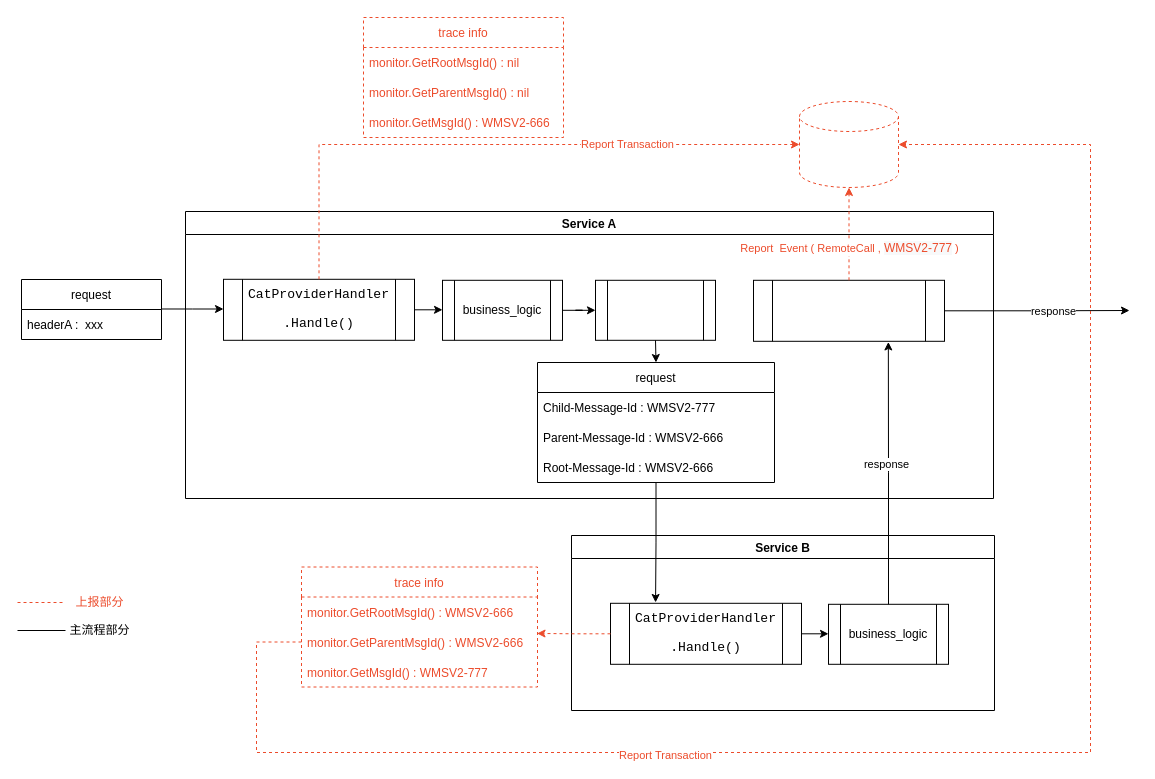
This 1155x779 diagram has some shape labels left out. Each missing label, with the centre of its shape:
"cat_agent" goes at point (848, 144).
"CatConsumerHandler .Handle()" goes at point (848, 310).
"chassis_client" goes at point (655, 309).
